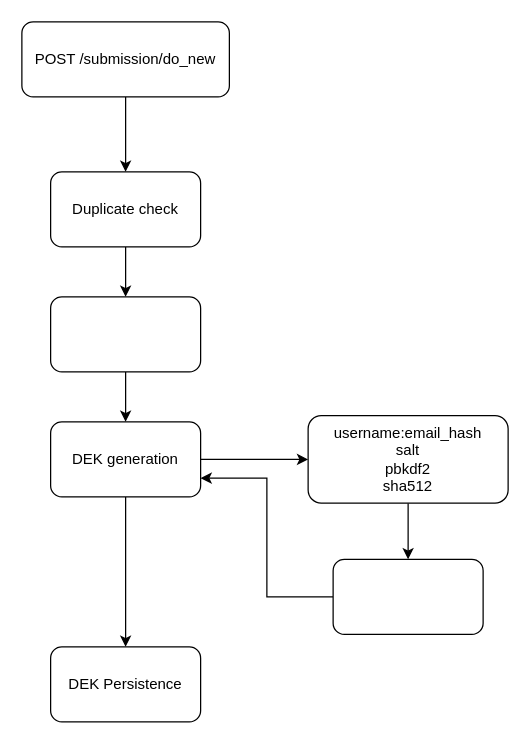
Some shapes in this 530 by 744 pixel diagram are drawn without their labels. Here are the shapes that lost their labels. From the top down, the centre of each, then its label:
At [125,334]: "User persistance".
At [407,596]: "check creation with aes from dek".
